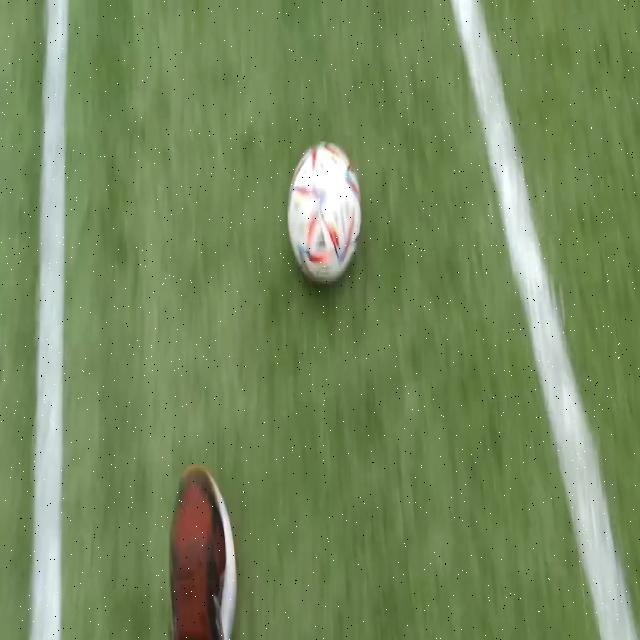ball: (287, 142, 361, 284)
